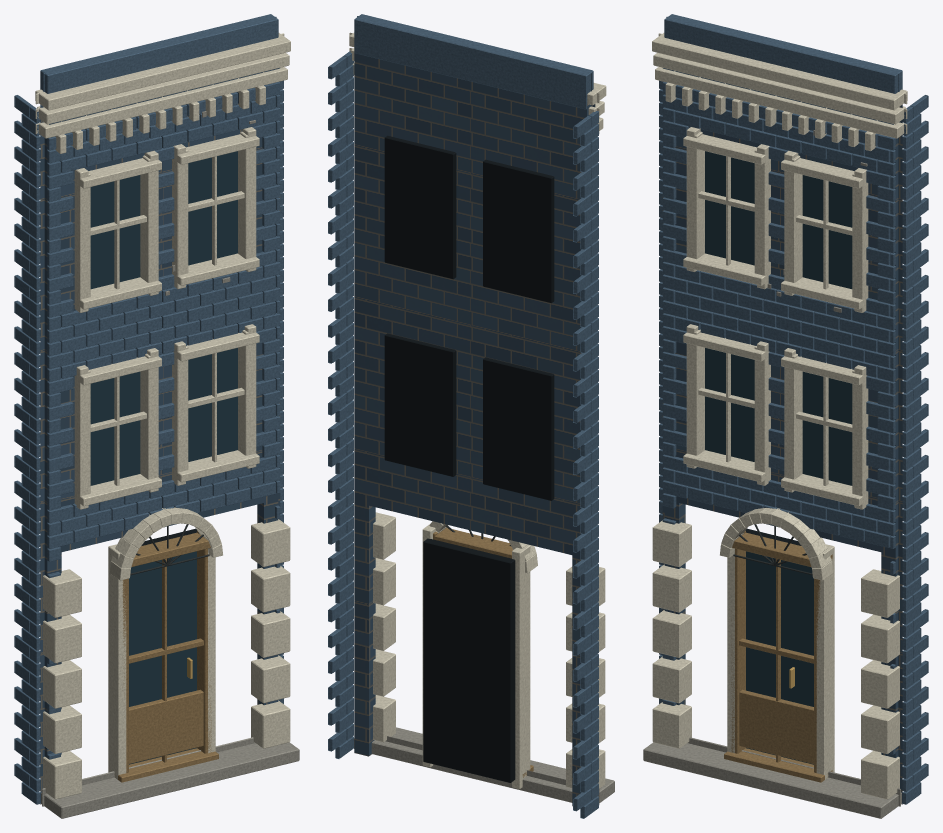
The model's file is OFFC12_lod0.glb.
3 renders of one model, left to right at view 1: azimuth 30°, elevation 25°; view 2: azimuth 150°, elevation 25°; view 3: azimuth 330°, elevation 25°, orthographic.
Parts seen in each view (by area): view 1: OFFC12_FRONT_LOD0; view 2: OFFC12_FRONT_LOD0; view 3: OFFC12_FRONT_LOD0.
Boxes of the visible parts, x1,y1,x2,y2 form: OFFC12_FRONT_LOD0: (14, 14, 299, 818); OFFC12_FRONT_LOD0: (328, 14, 614, 818); OFFC12_FRONT_LOD0: (643, 14, 928, 818).
Size of the model in its own units: 3.44 by 9.66 by 1.02.
12 materials, 9 textured.
